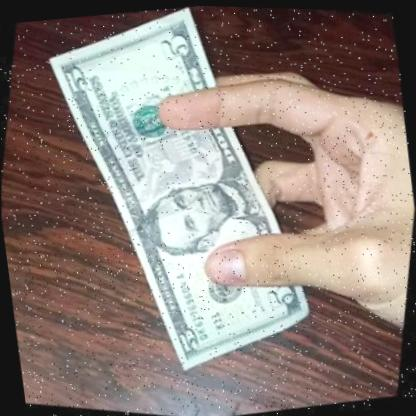five-front: (0, 0, 380, 416)
